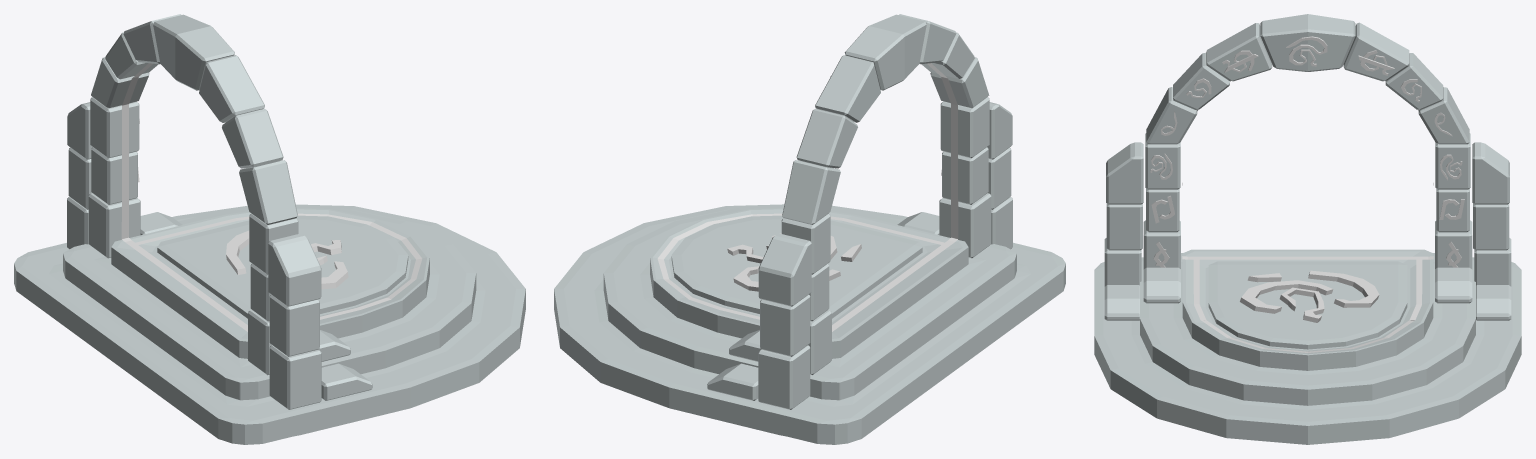
The model's file is Gate_01.fbx.
3 views of the same model, side by side, from view 1: azimuth 30°, elevation 25°; view 2: azimuth 150°, elevation 25°; view 3: azimuth 270°, elevation 25° (orthographic). The views are drawn at different scales.
Parts seen in each view (by area): view 1: Cylinder, Cube.009, Cylinder.001, Cube.013, Cube.011; view 2: Cylinder, Cube.009, Cylinder.001, Cube.013, Cube.011; view 3: Cylinder, Cube.009, Cylinder.001, Cube.010, Cube.011, Cube.013.
Part boxes in pixels (bbox=[...]): Cylinder: bbox=[14, 204, 525, 444]; Cube.009: bbox=[67, 14, 372, 409]; Cylinder.001: bbox=[181, 224, 387, 298]; Cube.013: bbox=[121, 63, 422, 331]; Cube.011: bbox=[226, 230, 348, 289]; Cylinder: bbox=[554, 204, 1065, 444]; Cube.009: bbox=[707, 14, 1012, 409]; Cylinder.001: bbox=[692, 224, 898, 298]; Cube.013: bbox=[657, 63, 958, 331]; Cube.011: bbox=[727, 233, 861, 291]; Cylinder: bbox=[1094, 249, 1521, 444]; Cube.009: bbox=[1104, 14, 1511, 320]; Cylinder.001: bbox=[1227, 269, 1388, 336]; Cube.010: bbox=[1150, 36, 1464, 267]; Cube.011: bbox=[1240, 270, 1379, 322]; Cube.013: bbox=[1182, 65, 1433, 352].
Bounding box in the file's own units: 93.45 × 74.59 × 100.
